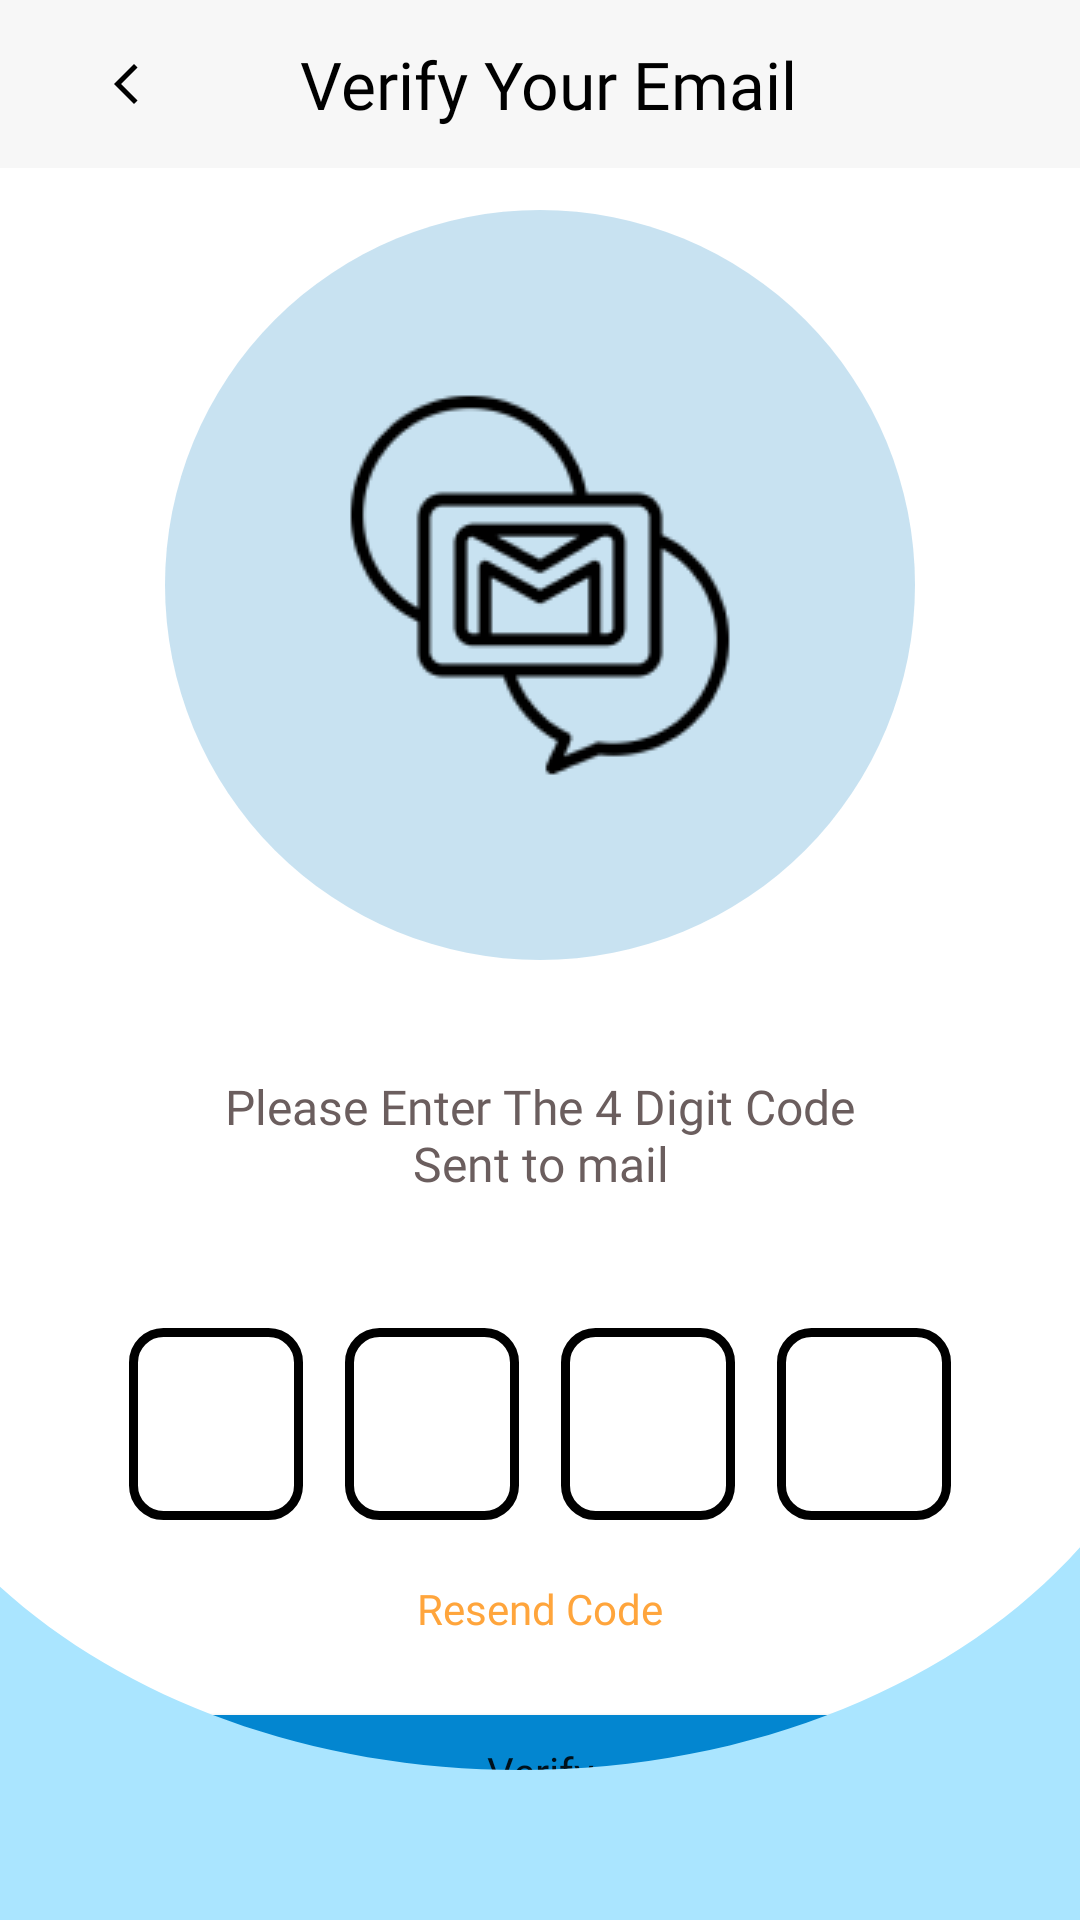

Screen size 1080 × 1920. Icon name, then its center in pixels as point (x, y):
arrow back: point (126, 84)
